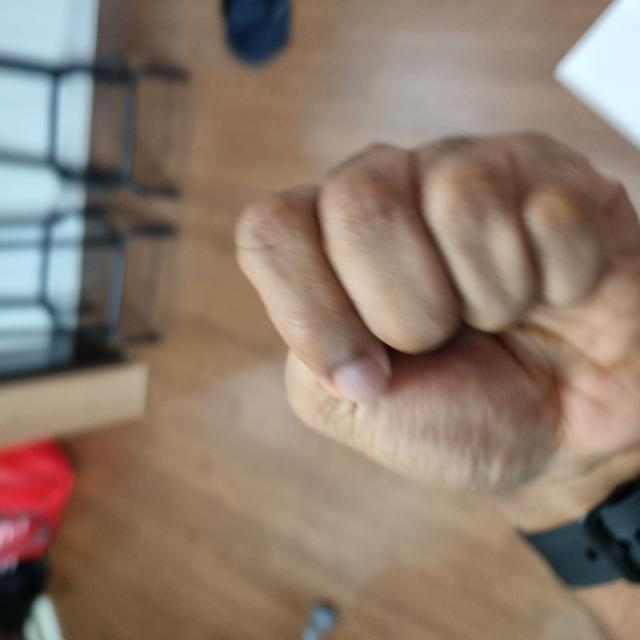Rock: (240, 246, 504, 621)
